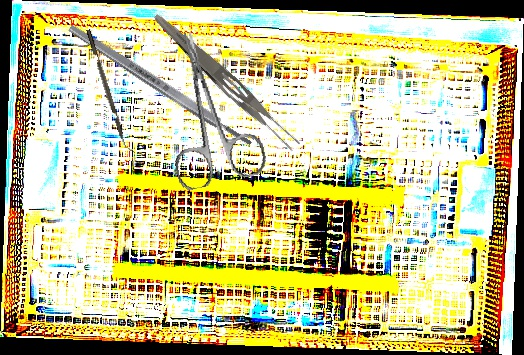Chopper: (86, 27, 134, 155)
Dressing Forceps: (146, 10, 305, 155)
Iris Scissors: (146, 21, 270, 193)
Scalpel Handle: (66, 21, 255, 150)
